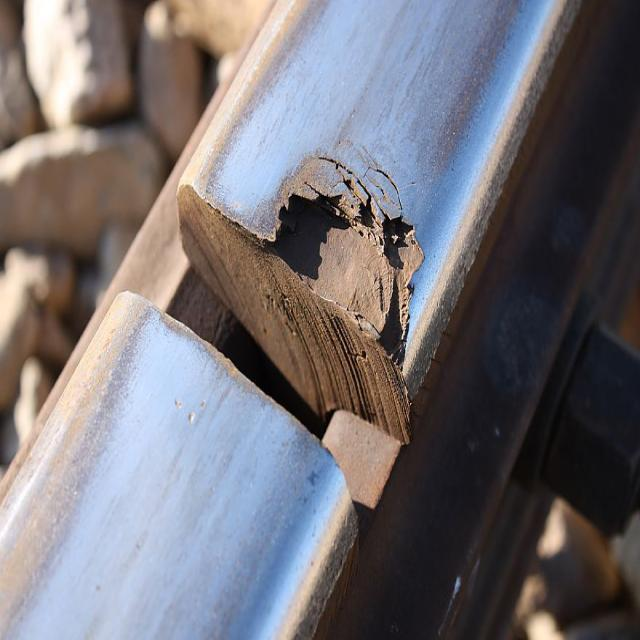broken_rail_medium: (108, 136, 442, 514)
head_checks_high: (256, 126, 427, 352)
